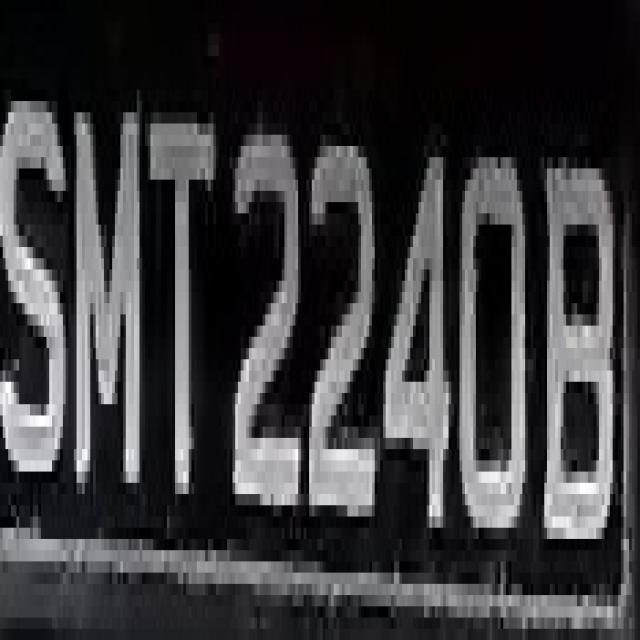0: (460, 112, 536, 550)
2: (298, 113, 378, 562), (222, 124, 304, 562)
4: (372, 135, 457, 561)
B: (542, 146, 624, 584)
M: (74, 79, 145, 528)
S: (8, 45, 71, 494)
T: (142, 56, 224, 528)
